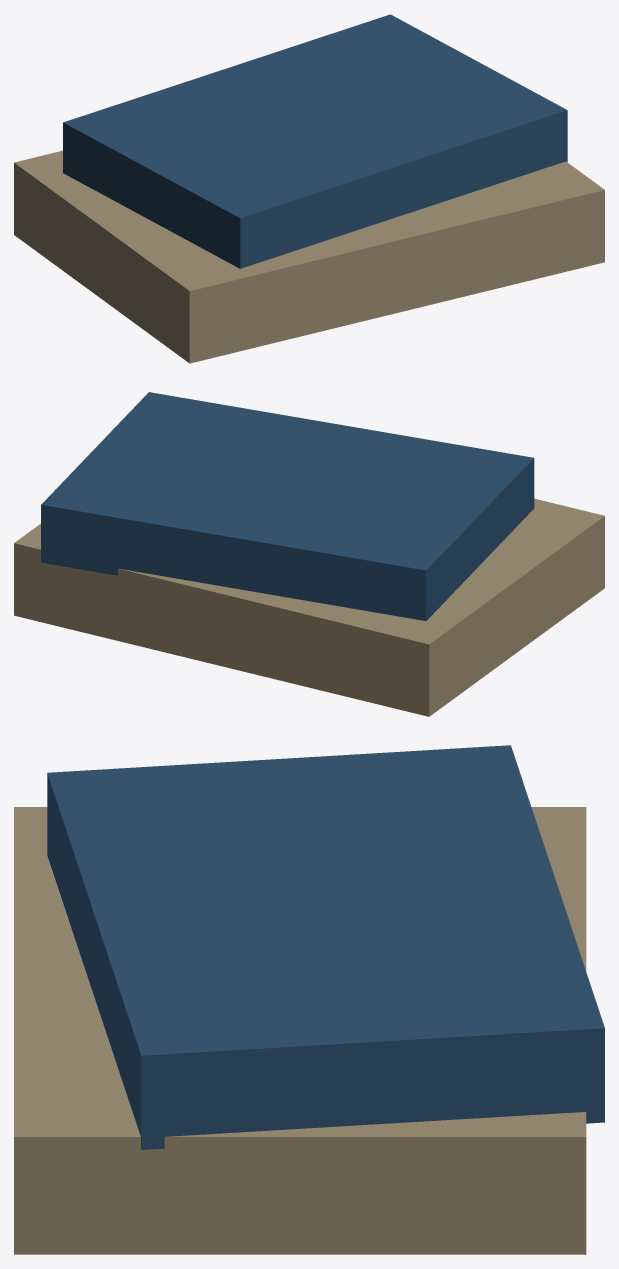
The model's file is Item_Cloth.fbx.
The picture shows the model from 3 angles, top to bottom: view 1: azimuth 30°, elevation 25°; view 2: azimuth 150°, elevation 25°; view 3: azimuth 270°, elevation 25°; orthographic projection. The views are drawn at different scales.
Parts seen in each view (by area): view 1: Item_Cloth; view 2: Item_Cloth; view 3: Item_Cloth.
Boxes of the visible parts, x1,y1,x2,y2 form: Item_Cloth: (14, 14, 604, 363); Item_Cloth: (14, 392, 604, 716); Item_Cloth: (14, 745, 604, 1254).
Bounding box in the file's own units: 0.3013 × 0.085 × 0.2272.
